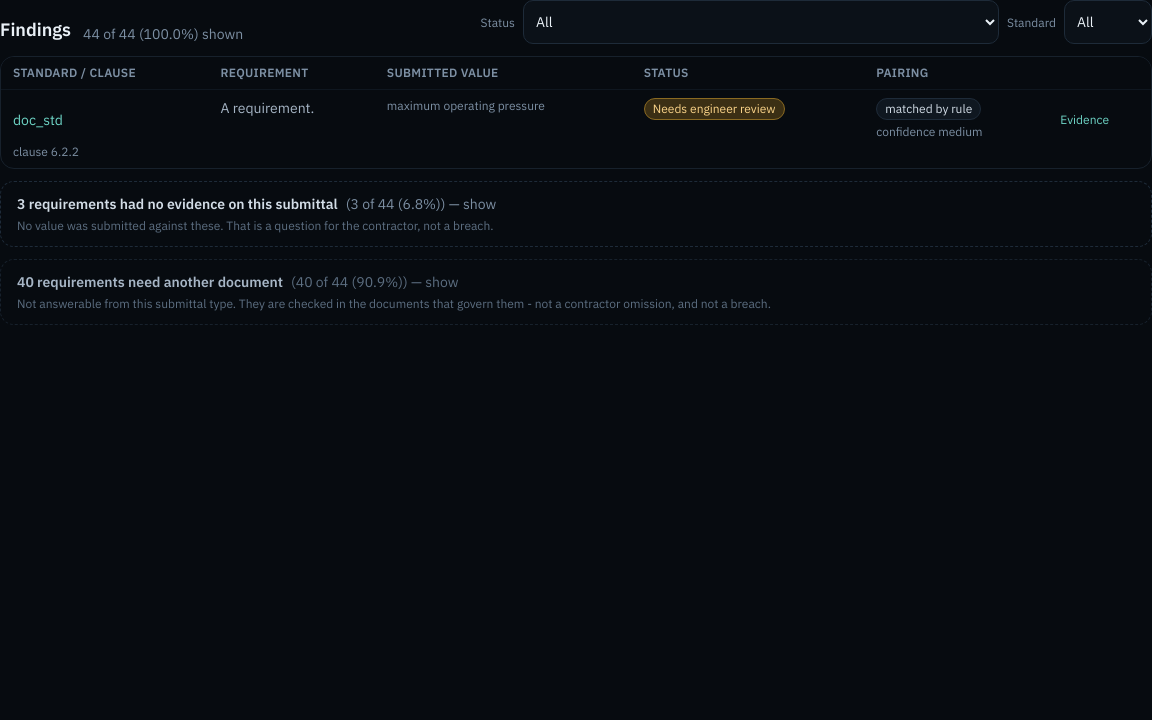
Test case: B9: a requirement that needs another document › never words it as the contractor's omission or a breach
Click the button "40 requirements need another document" at [158, 282], box [0,259,1151,325]
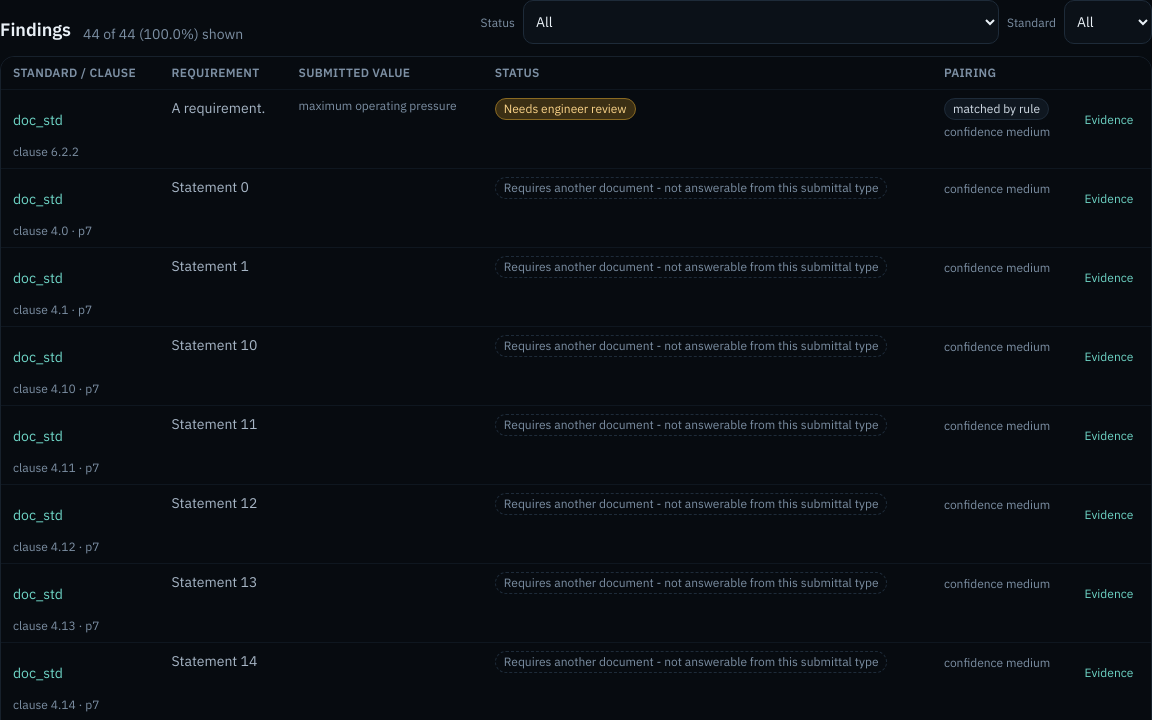
Expected: the text "Statement 0" is shown, [171,178,249,196]
Expected: the text "Requires another document - not answerable from this submittal type" in the row of "Statement 0" is shown, [504,180,878,195]
